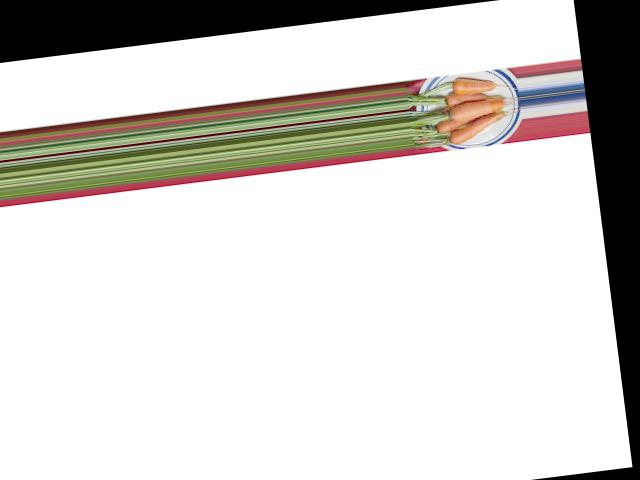carrot: (446, 71, 498, 99)
